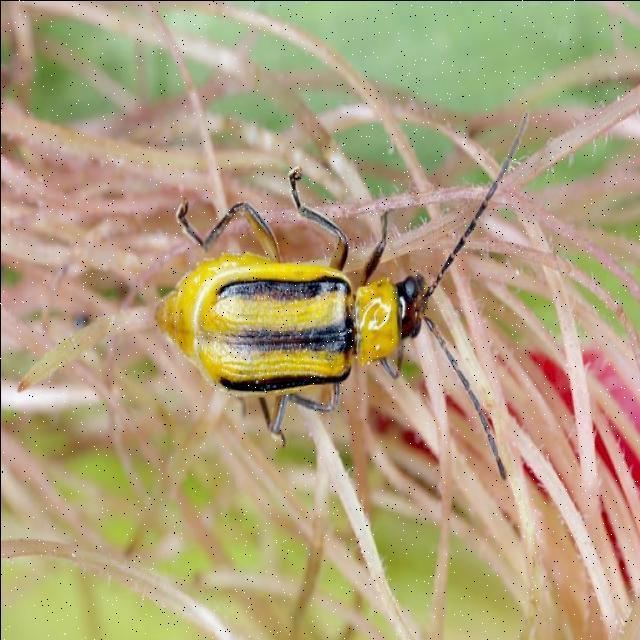trips: (152, 107, 528, 482)
